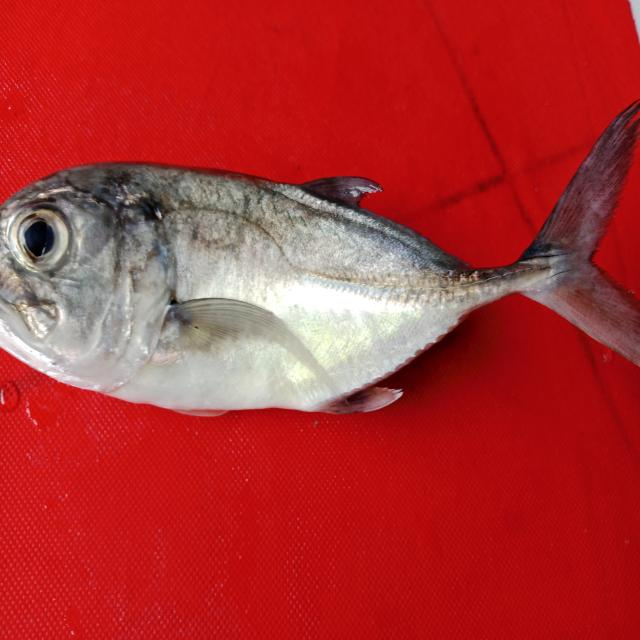ikan: (5, 106, 635, 430)
